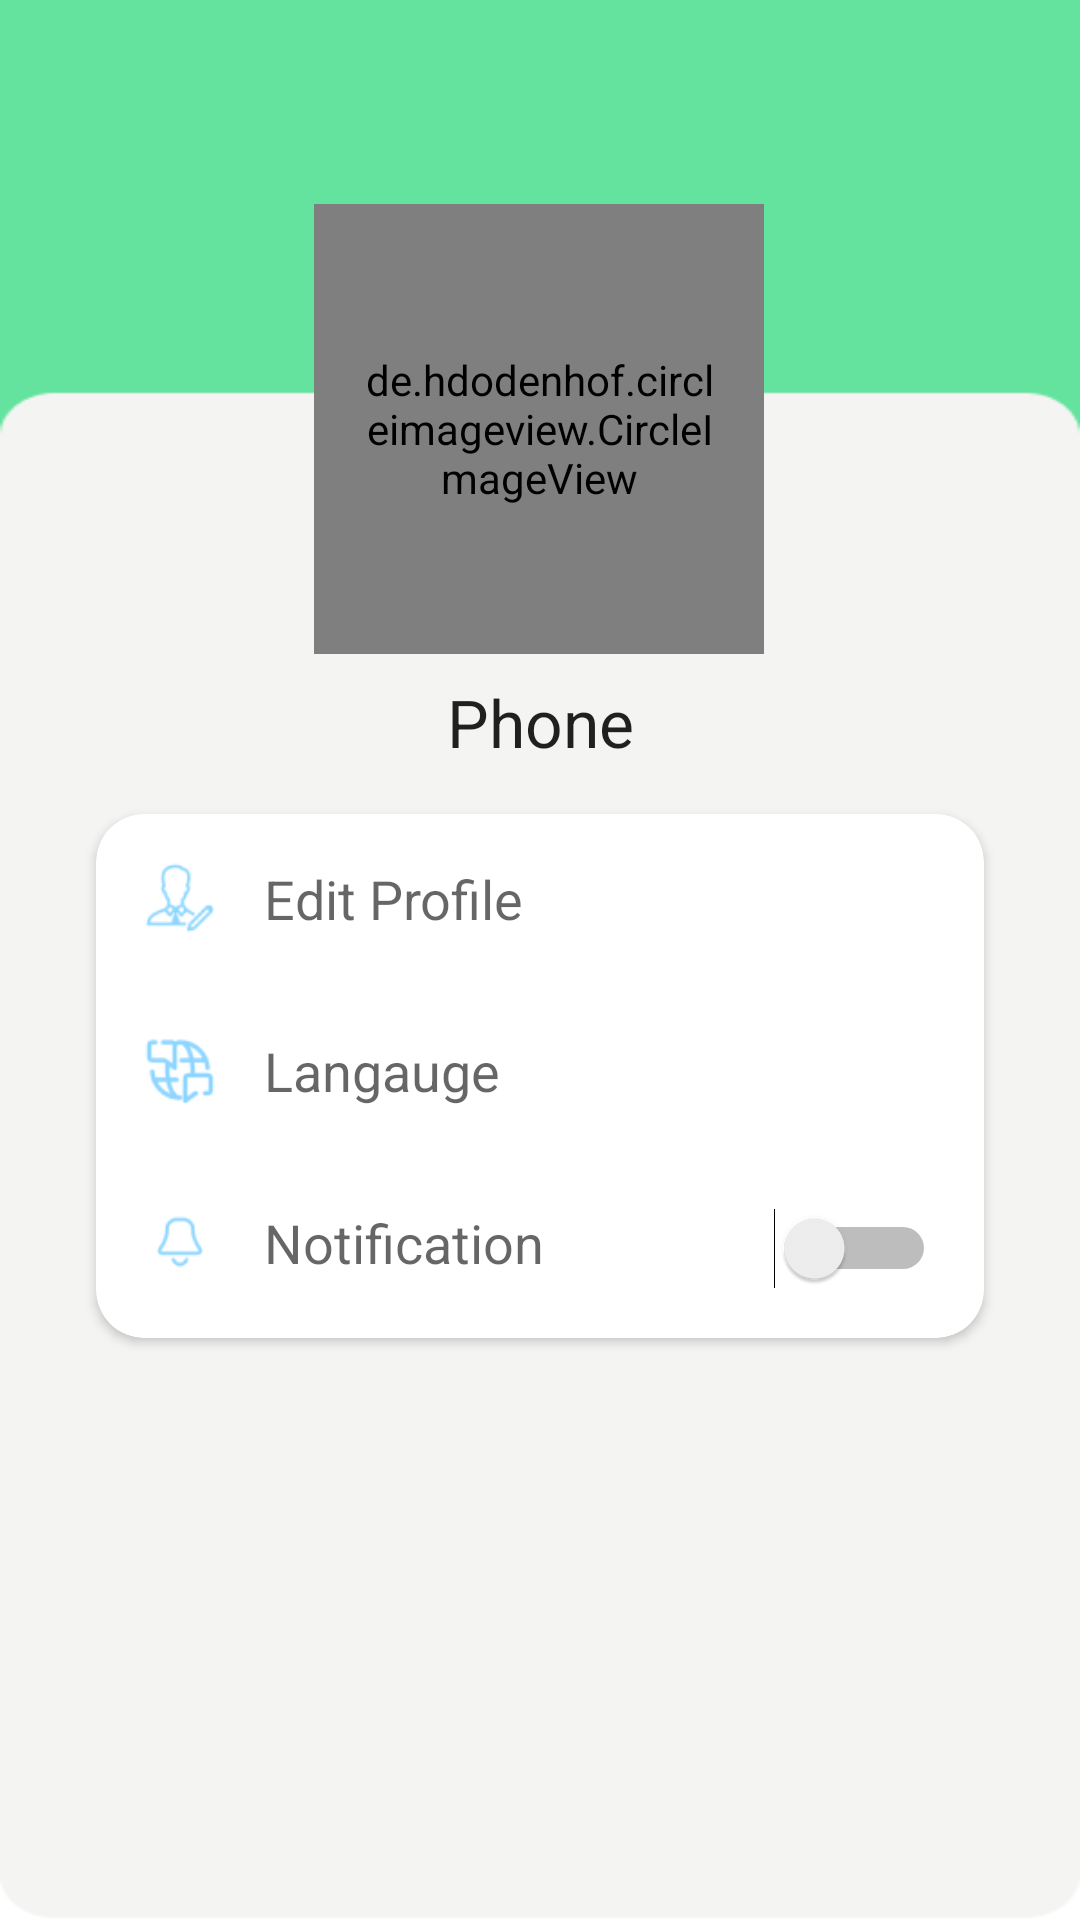

Icon click points for this 1080*1920 phone screenshot, format [x,y]:
iconlanguage: [180,1071]
